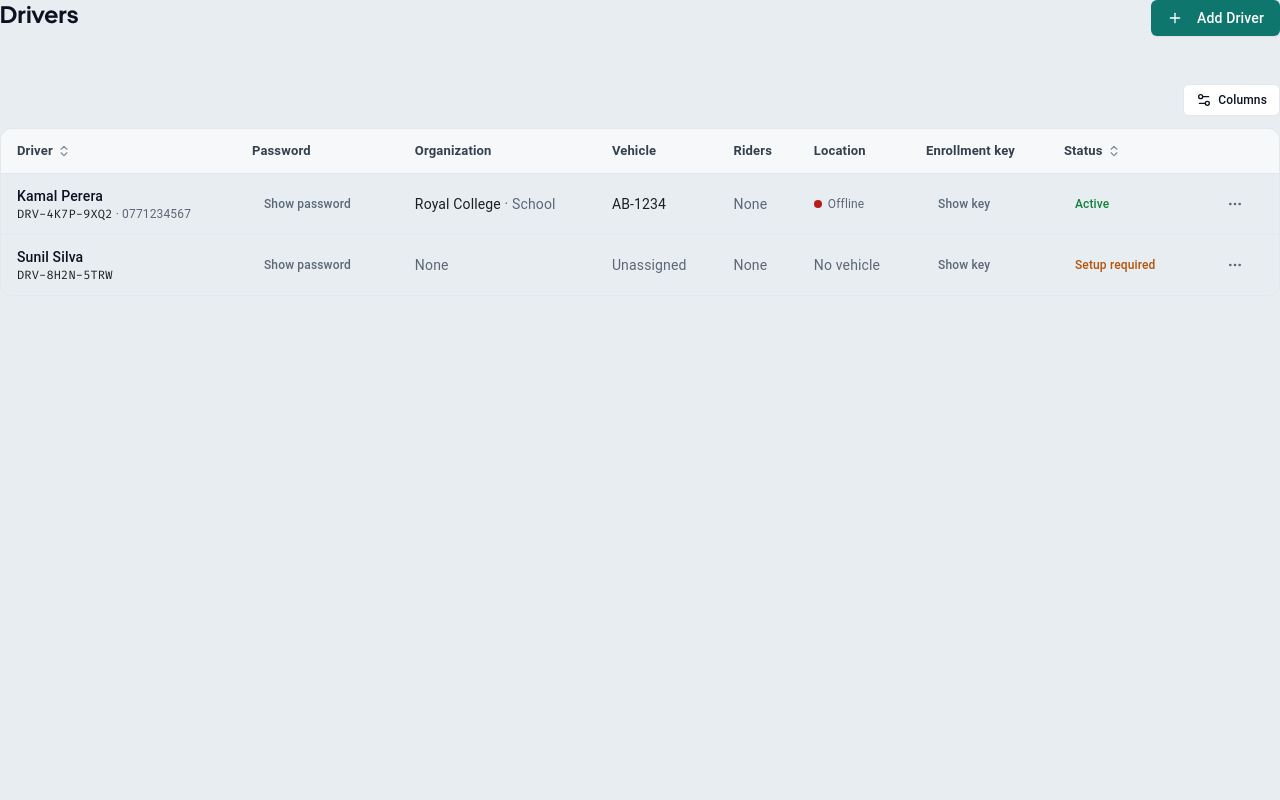
ManagerAccountsPage: disable driver confirmation (issue #50) › warns before disabling instead of disabling on the click itself
Click the button named "Actions for Kamal Perera" at (1235, 204), box [1217, 186, 1253, 222]
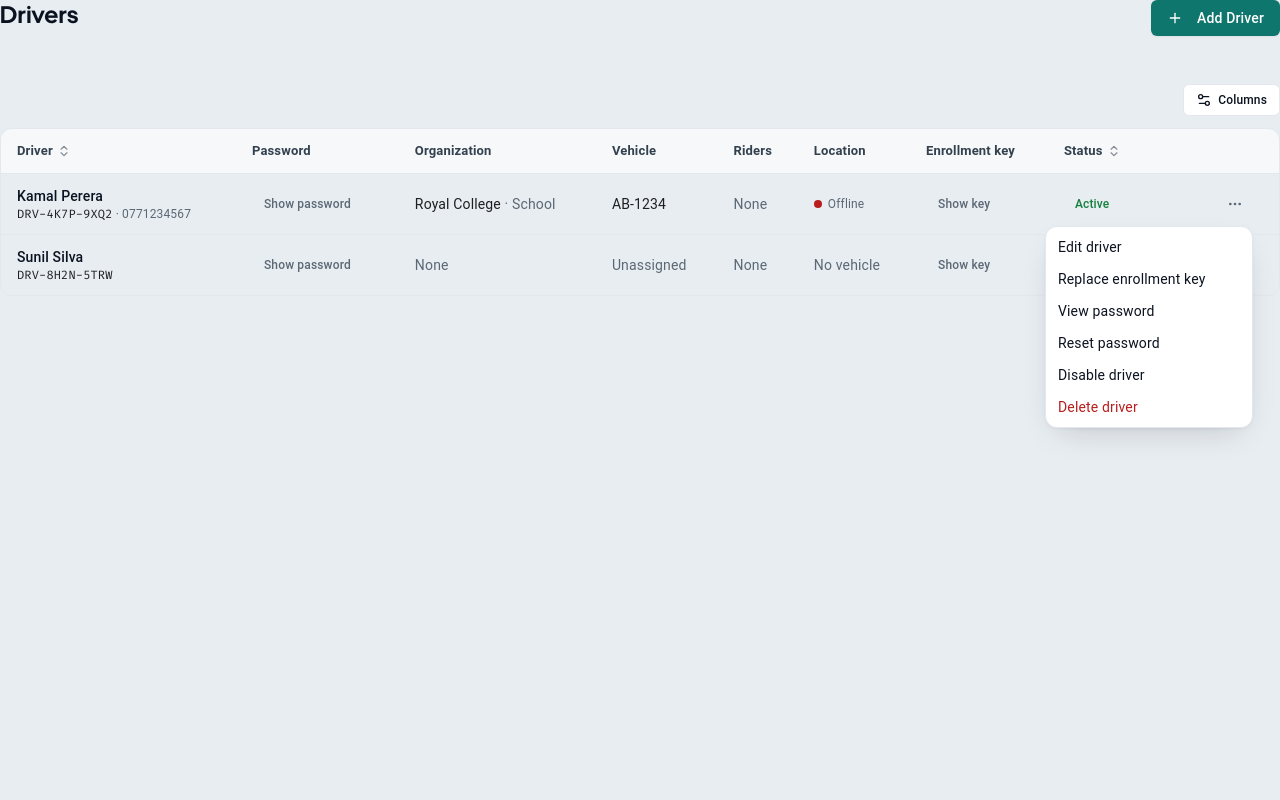
Click the menu item "Disable driver" at (1101, 375), box [1058, 367, 1145, 383]
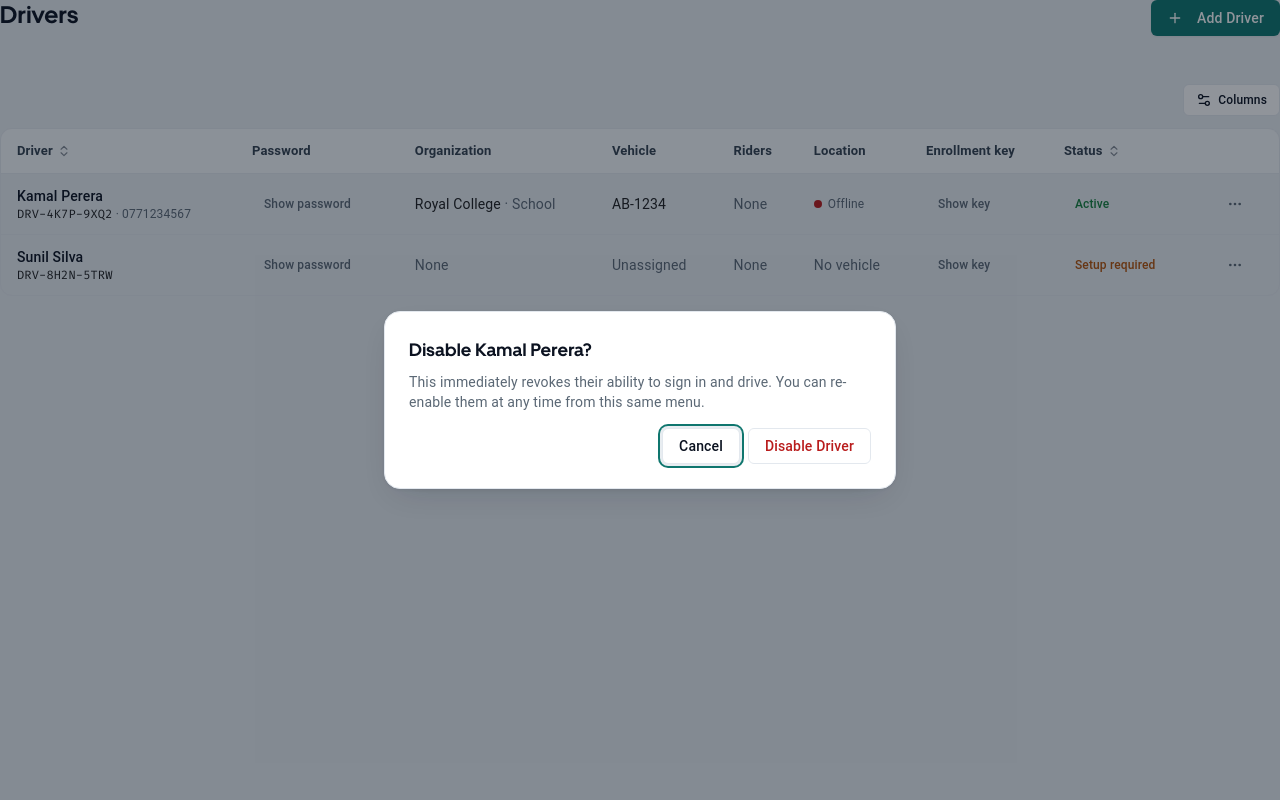
Check: the dialog is shown, box [384, 311, 896, 489]
